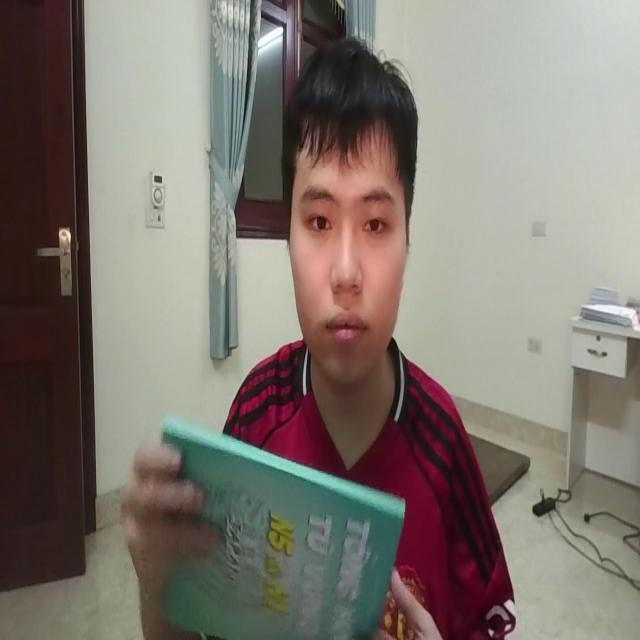book: (146, 410, 406, 640)
student: (110, 33, 518, 640)
